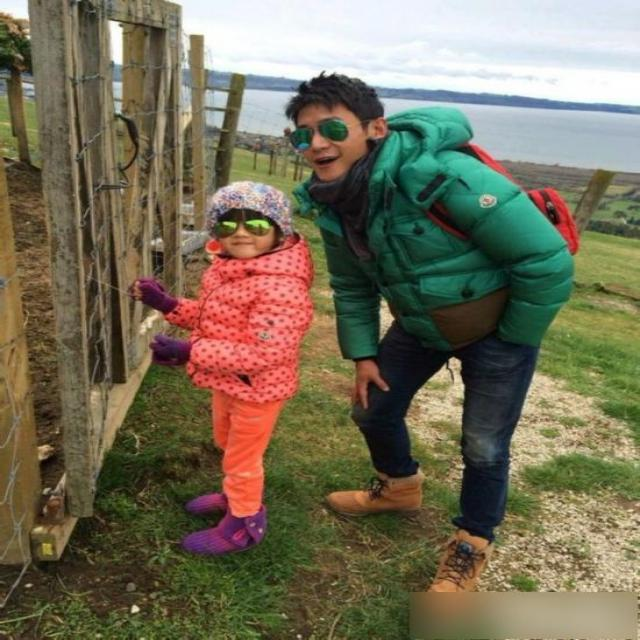Manusia: (250, 70, 604, 624)
